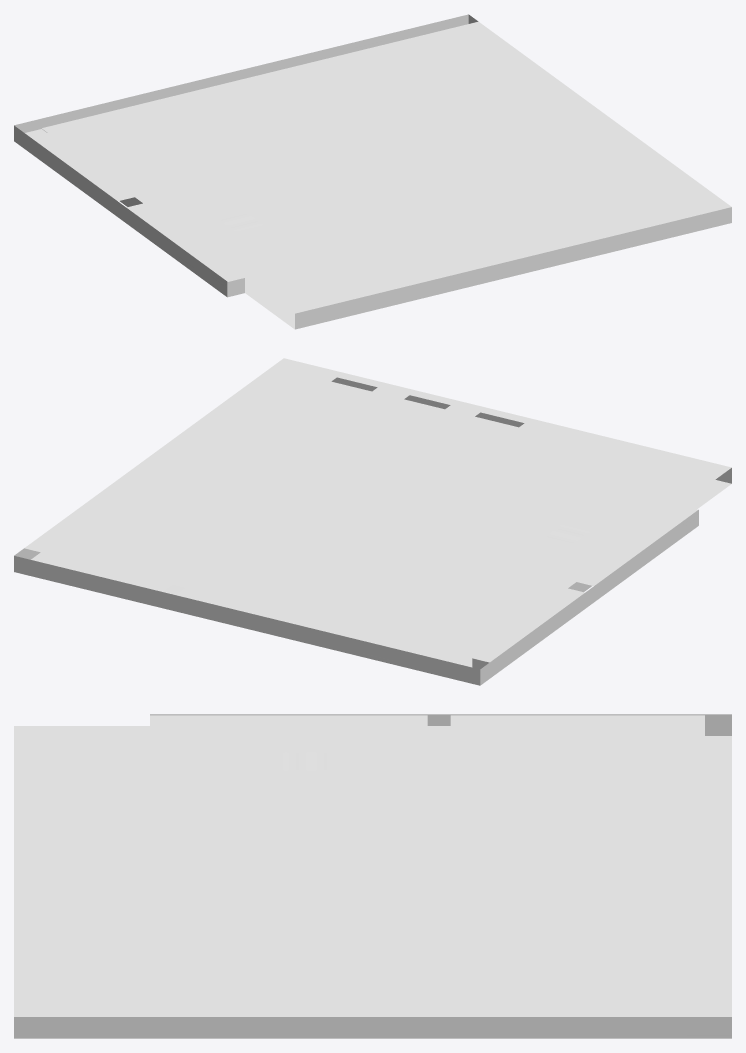
The model's file is BaseS5.obj.
3 views of the same model, one above another, from view 1: azimuth 30°, elevation 25°; view 2: azimuth 150°, elevation 25°; view 3: azimuth 270°, elevation 25° (orthographic). The views are drawn at different scales.
Visible parts, largest first — view 1: BaseS5; view 2: BaseS5; view 3: BaseS5.
Part boxes in pixels (x1=…): BaseS5: x1=14, y1=14, x2=731, y2=329; BaseS5: x1=14, y1=358, x2=731, y2=685; BaseS5: x1=14, y1=714, x2=731, y2=1038.
Size of the model in its own units: 15.97 by 0.5341 by 16.01.
Materials: 1 (1 with a texture image).
